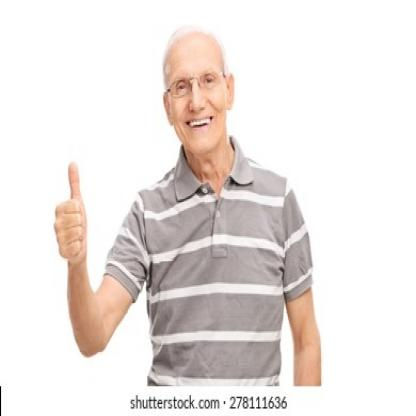Thumbs-Up: (51, 158, 91, 262)
